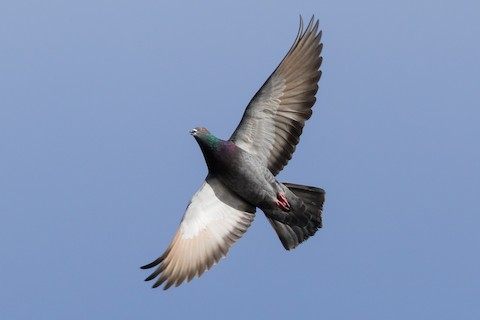pigeon: (135, 11, 329, 295)
